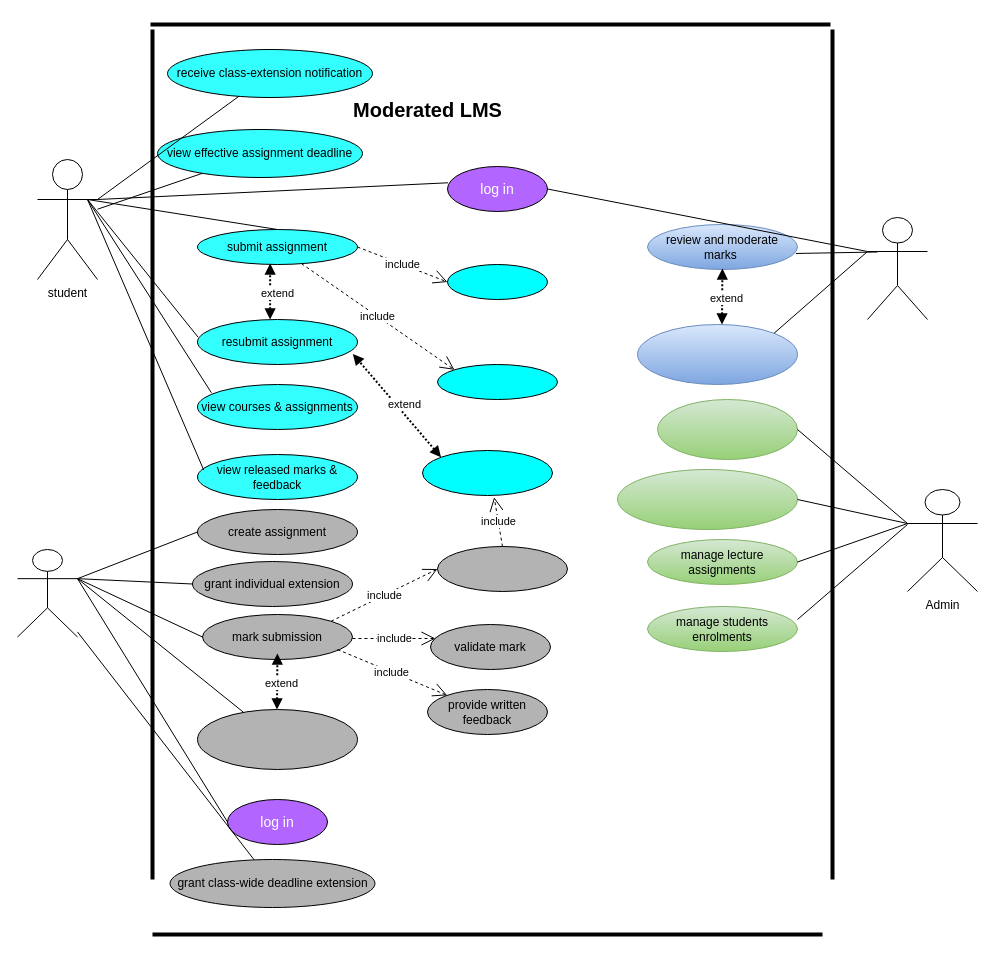
Some shapes in this 995 by 958 pixel diagram are drawn without their labels. The centre of each missing label's shape, as x and y in pixels:
apply late penalty: point (487, 473)
check deadline: point (497, 282)
HoD: point (897, 268)
identify late penalty: point (502, 569)
Lecture: point (47, 592)
manage departments and courses: point (707, 499)
manage user accounts: point (727, 429)
record mark change in audit log: point (277, 739)
release approved marks to students: point (717, 354)
save submission records: point (497, 382)
